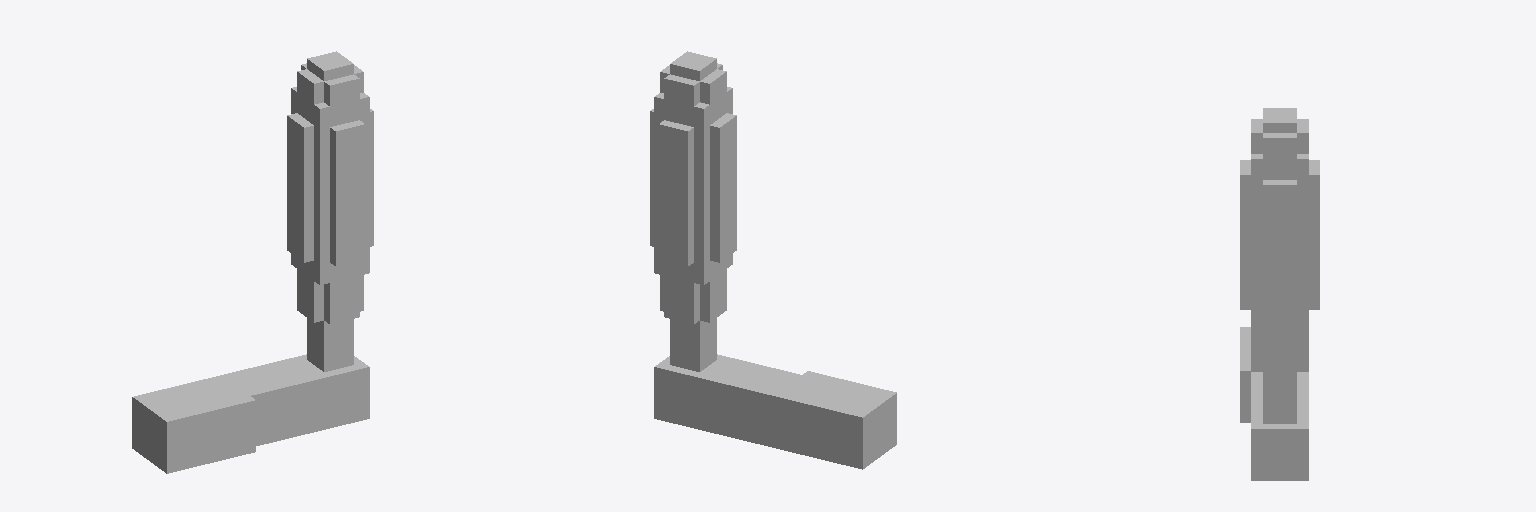
File: Kids Boss Left Arm.obj
The picture shows the model from 3 angles: view 1: azimuth 30°, elevation 25°; view 2: azimuth 150°, elevation 25°; view 3: azimuth 270°, elevation 25°; orthographic projection.
Visible parts, largest first — view 1: object 1; view 2: object 1; view 3: object 1.
Part boxes in pixels (left/top/right/bottom): object 1: left=132, top=51, right=373, bottom=473; object 1: left=650, top=51, right=896, bottom=469; object 1: left=1240, top=108, right=1319, bottom=480.
Size of the model in its own units: 2.2 by 3.4 by 0.7.